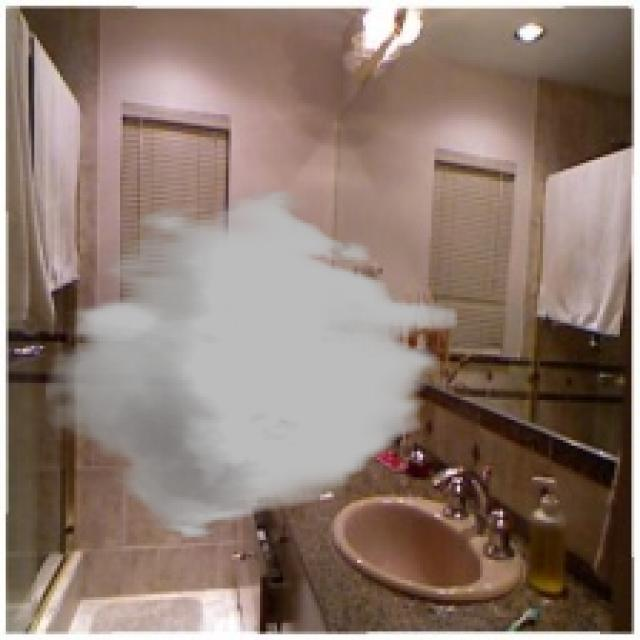Smoke: (46, 188, 457, 540)
